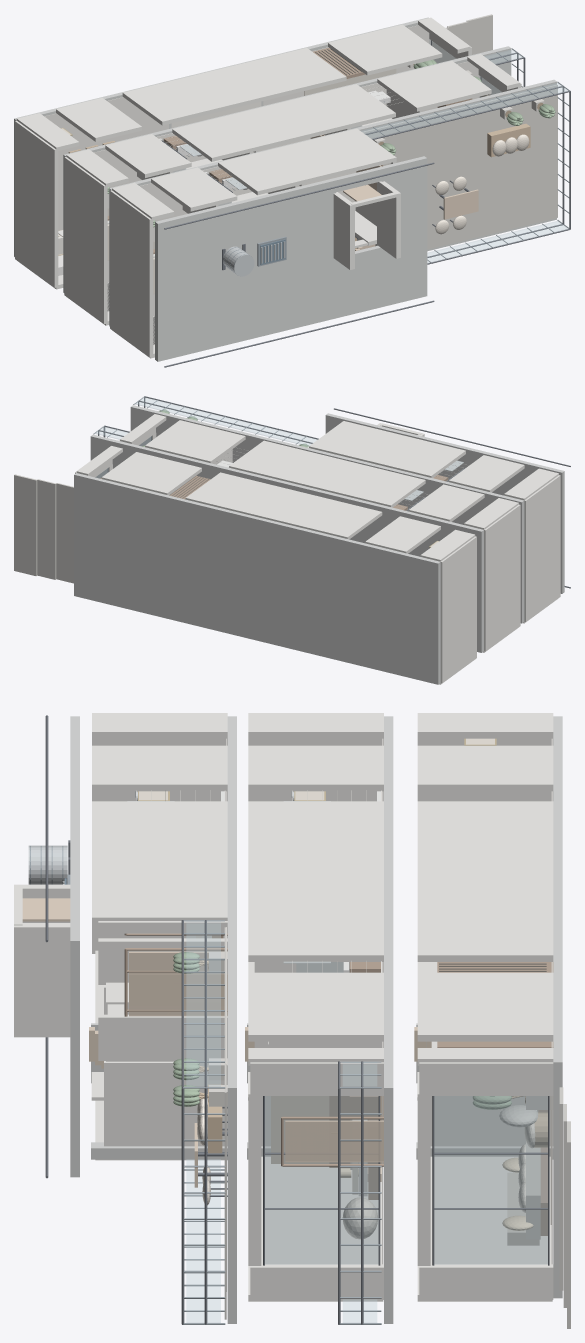
Rendered from NHA_V18_CHI_TIET_KT06_KT09.glb.
3 views of the same model, one above another, from view 1: azimuth 30°, elevation 25°; view 2: azimuth 150°, elevation 25°; view 3: azimuth 270°, elevation 25° (orthographic). The views are drawn at different scales.
Parts seen in each view (by area): view 1: F3__ROOF__roof_cover_rear, F2__TERRACE__terrace_deck, F3__ROOF__roof_cover_stair_left, F0__SHELL__rear_wall, F2__SHELL__rear_wall, F1__SHELL__rear_wall, F2__SHELL_NEAR__south_wall_7, F1__SHELL_NEAR__south_wall_7, F0__SHELL_NEAR__south_wall_7, F0__SHELL_NEAR__south_wall_14.15, F1__SHELL_NEAR__south_wall_14.15, F0__SHELL_NEAR__south_wall_4.82 (+37 smaller); view 2: F0__SLAB__architectural_floor_slab, F1__SLAB__architectural_floor_slab, F1__SHELL__rear_wall, F0__SHELL__rear_wall, F2__SHELL__rear_wall, F2__SLAB__architectural_floor_slab, F0__SHELL_NEAR__south_wall_7, F1__SHELL_NEAR__south_wall_7, F2__SHELL_NEAR__south_wall_7, F0__SHELL_NEAR__south_wall_14.15, F1__SHELL_NEAR__south_wall_14.15, F0__EXTERIOR__front_tread_3 (+22 smaller); view 3: F0__GLASS__front_sliding_glazing, F1__GLASS__front_sliding_glazing, F2__SHELL_NEAR__south_wall_7, F0__SHELL_NEAR__south_wall_7, F1__SHELL_NEAR__south_wall_7, F0__SHELL__north_boundary_wall, F1__SHELL__north_boundary_wall, F0__SHELL_NEAR__south_wall_14.15, F1__SHELL_NEAR__south_wall_14.15, F2__CORE__stair_core_return_11.13, F3__ROOF_ACCESS__rooftop_access_wall_10.2, F0__SHELL_NEAR__south_wall_1.78 (+63 smaller).
Part boxes in pixels (x1,y1,x2,y2): F3__ROOF__roof_cover_rear: (155, 184, 311, 361); F2__TERRACE__terrace_deck: (363, 85, 557, 249); F3__ROOF__roof_cover_stair_left: (311, 236, 427, 324); F0__SHELL__rear_wall: (15, 120, 58, 287); F2__SHELL__rear_wall: (110, 190, 153, 357); F1__SHELL__rear_wall: (64, 157, 107, 324); F2__SHELL_NEAR__south_wall_7: (266, 128, 396, 183); F1__SHELL_NEAR__south_wall_7: (220, 95, 350, 149); F0__SHELL_NEAR__south_wall_7: (171, 59, 301, 113); F0__SHELL_NEAR__south_wall_14.15: (328, 24, 442, 75); F1__SHELL_NEAR__south_wall_14.15: (377, 61, 491, 111); F0__SHELL_NEAR__south_wall_4.82: (122, 81, 210, 125); F0__SLAB__architectural_floor_slab: (74, 473, 440, 684); F1__SLAB__architectural_floor_slab: (117, 441, 483, 652); F1__SHELL__rear_wall: (484, 504, 520, 651); F0__SHELL__rear_wall: (440, 536, 476, 683); F2__SHELL__rear_wall: (524, 475, 560, 621); F2__SLAB__architectural_floor_slab: (157, 411, 524, 623); F0__SHELL_NEAR__south_wall_7: (225, 482, 339, 528); F1__SHELL_NEAR__south_wall_7: (268, 450, 383, 496); F2__SHELL_NEAR__south_wall_7: (309, 421, 423, 467); F0__SHELL_NEAR__south_wall_14.15: (101, 452, 201, 495); F1__SHELL_NEAR__south_wall_14.15: (145, 420, 245, 463); F0__EXTERIOR__front_tread_3: (14, 474, 37, 575); F0__GLASS__front_sliding_glazing: (434, 1096, 547, 1264); F1__GLASS__front_sliding_glazing: (265, 1096, 378, 1264); F2__SHELL_NEAR__south_wall_7: (92, 841, 227, 924); F0__SHELL_NEAR__south_wall_7: (417, 841, 553, 917); F1__SHELL_NEAR__south_wall_7: (248, 841, 383, 917); F0__SHELL__north_boundary_wall: (417, 962, 552, 1301); F1__SHELL__north_boundary_wall: (248, 962, 383, 1301); F0__SHELL_NEAR__south_wall_14.15: (417, 972, 553, 1041); F1__SHELL_NEAR__south_wall_14.15: (248, 972, 383, 1041); F2__CORE__stair_core_return_11.13: (104, 1061, 227, 1146); F3__ROOF_ACCESS__rooftop_access_wall_10.2: (14, 923, 70, 1037); F0__SHELL_NEAR__south_wall_1.78: (417, 745, 553, 791).
Bounding box in the file's own units: 21.94 × 6.17 × 12.83.
